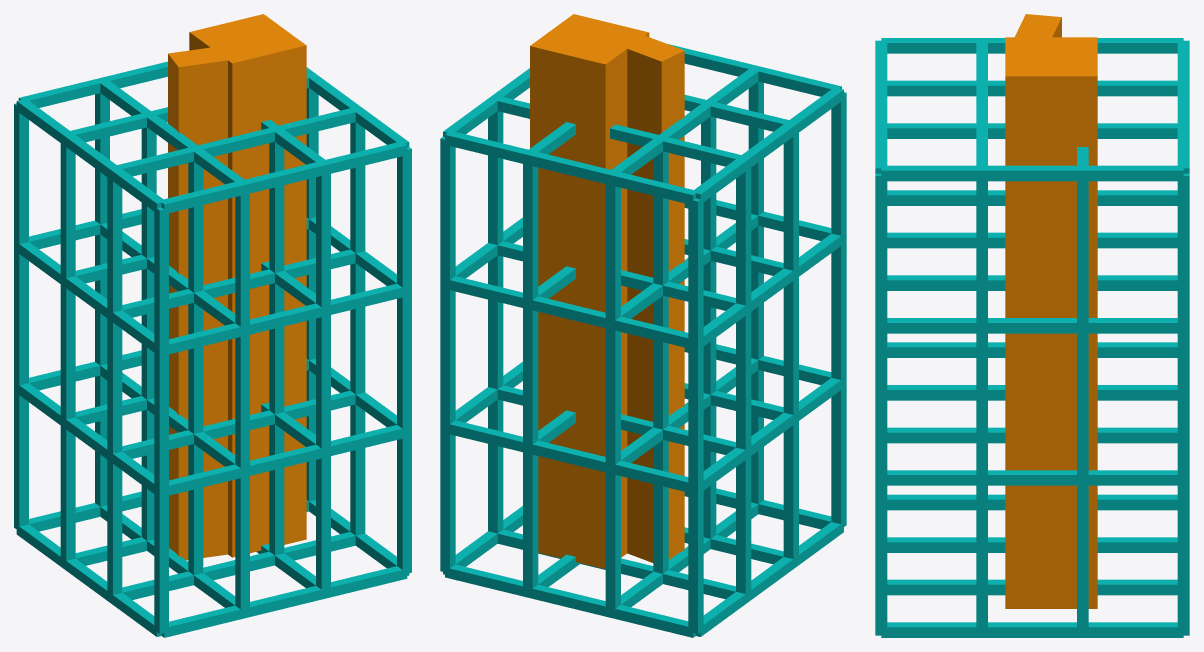
File: folie_tag_146.glb
3 renders of one model, left to right at view 1: azimuth 30°, elevation 25°; view 2: azimuth 150°, elevation 25°; view 3: azimuth 270°, elevation 25°, orthographic. The views are drawn at different scales.
Visible parts, largest first — view 1: folie_tag_146_00_cage, folie_tag_146_core, folie_tag_146_01_fin; view 2: folie_tag_146_00_cage, folie_tag_146_core, folie_tag_146_01_fin; view 3: folie_tag_146_00_cage, folie_tag_146_core, folie_tag_146_01_fin.
Boxes of the visible parts, bbox=[...] form: folie_tag_146_00_cage: bbox=[14, 61, 411, 637]; folie_tag_146_core: bbox=[189, 14, 306, 557]; folie_tag_146_01_fin: bbox=[168, 43, 255, 560]; folie_tag_146_00_cage: bbox=[440, 44, 846, 637]; folie_tag_146_core: bbox=[530, 14, 649, 568]; folie_tag_146_01_fin: bbox=[600, 27, 684, 562]; folie_tag_146_00_cage: bbox=[875, 38, 1189, 637]; folie_tag_146_core: bbox=[1005, 37, 1097, 608]; folie_tag_146_01_fin: bbox=[1008, 14, 1061, 53].
Size of the model in its own units: 3.74 by 7.07 by 3.74.
